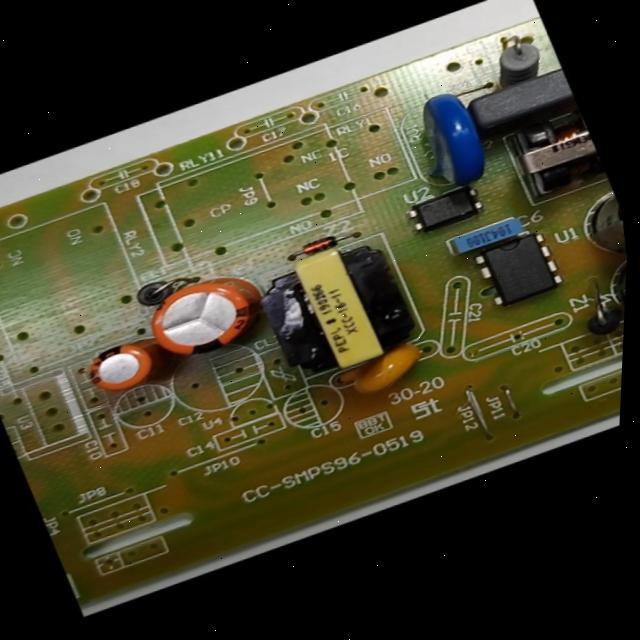Cap1: (125, 250, 287, 385)
Cap2: (70, 321, 185, 413)
Cap3: (561, 180, 630, 282)
Cap4: (575, 249, 627, 348)
MOSFET: (459, 217, 581, 325)
Mov: (376, 73, 513, 217)
Resistor: (470, 19, 564, 98)
Transformer: (238, 218, 436, 399), (493, 97, 614, 213)
